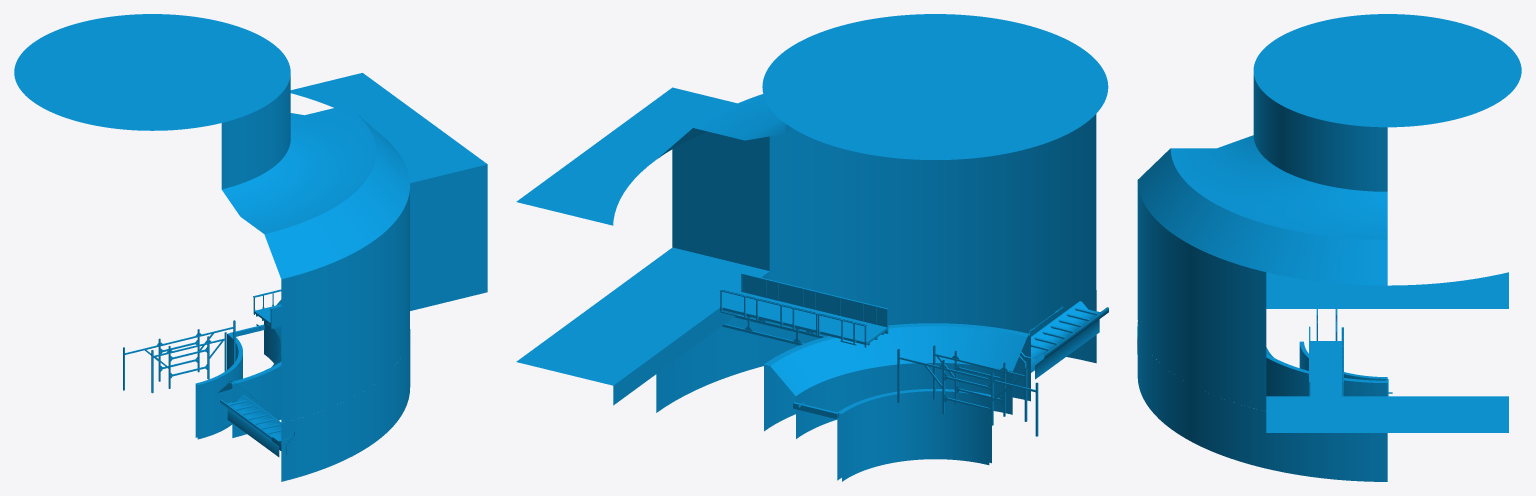
The model's file is BossRoom_SET_Unity.fbx.
3 renders of one model, left to right at view 1: azimuth 30°, elevation 25°; view 2: azimuth 150°, elevation 25°; view 3: azimuth 270°, elevation 25°, orthographic. The views are drawn at different scales.
Parts seen in each view (by area): view 1: BR_CeilingInnerCyl, BR_WallCylFull, BR_CeilingOutCyl, BR_CeilingCylinderFill, BR_WallCylBot, BR_WallSquareFull, BR_CeilingSquare, BR_CeilingWall, BR_WallCylTop, BR_CenterPool, BR_WallSquareTop, BR_InnerCenter (+4 smaller); view 2: BR_CeilingInnerCyl, BR_WallCylFull, BR_WallCylBot, BR_CenterPool, BR_FloorSquare, BR_WallSquareFull, BR_InnerCenter, BR_CeilingSquare, BR_WallCylFiller, BigModule_Base, BR_CeilingOutCyl, BR_SquareFiller (+7 smaller); view 3: BR_CeilingInnerCyl, BR_WallCylBot, BR_CeilingCylinderFill, BR_WallCylFull, BR_CeilingOutCyl, BR_FloorSquare, BR_CeilingWall, BR_CeilingSquare, BR_WallCylTop, BR_CenterPool, BR_WallCylFiller, Long_Floor (+2 smaller).
Part boxes in pixels (box(x1,y1,x2,y2)): BR_CeilingInnerCyl: box(14, 14, 290, 130); BR_WallCylFull: box(281, 220, 409, 406); BR_CeilingOutCyl: box(221, 105, 376, 233); BR_CeilingCylinderFill: box(264, 113, 409, 279); BR_WallCylBot: box(281, 329, 410, 481); BR_WallSquareFull: box(410, 195, 487, 310); BR_CeilingSquare: box(290, 73, 487, 183); BR_CeilingWall: box(221, 76, 290, 189); BR_WallCylTop: box(281, 191, 409, 309); BR_CenterPool: box(217, 299, 281, 437); BR_WallSquareTop: box(410, 164, 487, 213); BR_InnerCenter: box(195, 333, 242, 439); BR_CeilingInnerCyl: box(762, 14, 1108, 159); BR_WallCylFull: box(769, 140, 1096, 270); BR_WallCylBot: box(656, 271, 1096, 412); BR_CenterPool: box(764, 323, 1030, 438); BR_FloorSquare: box(516, 247, 769, 385); BR_WallSquareFull: box(672, 133, 769, 270); BR_InnerCenter: box(837, 389, 991, 481); BR_CeilingSquare: box(516, 87, 736, 225); BR_WallCylFiller: box(769, 251, 1096, 289); BigModule_Base: box(1019, 301, 1108, 379); BR_CeilingOutCyl: box(693, 94, 785, 140); BR_SquareFiller: box(613, 271, 769, 405); BR_CeilingInnerCyl: box(1253, 14, 1521, 127); BR_WallCylBot: box(1137, 322, 1387, 481); BR_CeilingCylinderFill: box(1137, 148, 1387, 285); BR_WallCylFull: box(1137, 211, 1266, 395); BR_CeilingOutCyl: box(1170, 135, 1387, 239); BR_FloorSquare: box(1266, 396, 1508, 432); BR_CeilingWall: box(1253, 74, 1387, 191); BR_CeilingSquare: box(1266, 272, 1508, 308); BR_WallCylTop: box(1137, 182, 1266, 301); BR_CenterPool: box(1266, 347, 1387, 396); BR_WallCylFiller: box(1137, 305, 1266, 411); Long_Floor: box(1310, 359, 1342, 396).
Size of the model in its own units: 2522 by 2050 by 2205.
